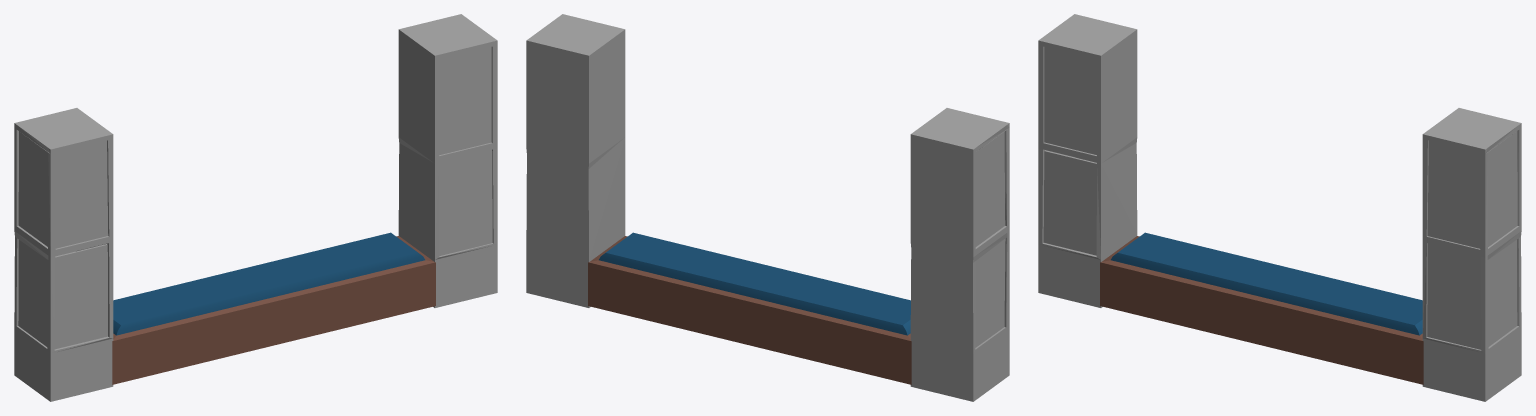
The model's file is hallwayTheaterEntrance.fbx.
The picture shows the model from 3 angles, left to right: view 1: azimuth 30°, elevation 25°; view 2: azimuth 150°, elevation 25°; view 3: azimuth 330°, elevation 25°; orthographic projection.
Parts seen in each view (by area): view 1: trophy_cases, middle_bench, glass_R1 (×2), glass_R2 (×2), glass_R3, glass_R4; view 2: trophy_cases, middle_bench, glass_R1, glass_R2; view 3: trophy_cases, middle_bench, glass_R3 (×2), glass_R4 (×2), glass_R1, glass_R2.
Boxes of the visible parts, x1=… form: trophy_cases: x1=14, y1=14, x2=497, y2=401; middle_bench: x1=112, y1=232, x2=435, y2=384; glass_R1 (×2): x1=18, y1=47, x2=491, y2=246; glass_R2 (×2): x1=18, y1=149, x2=492, y2=346; glass_R3: x1=55, y1=140, x2=108, y2=248; glass_R4: x1=54, y1=244, x2=107, y2=349; trophy_cases: x1=526, y1=14, x2=1009, y2=401; middle_bench: x1=588, y1=232, x2=911, y2=384; glass_R1: x1=975, y1=131, x2=1005, y2=246; glass_R2: x1=975, y1=238, x2=1005, y2=347; trophy_cases: x1=1038, y1=14, x2=1521, y2=401; middle_bench: x1=1100, y1=232, x2=1423, y2=384; glass_R3 (×2): x1=1044, y1=47, x2=1517, y2=246; glass_R4 (×2): x1=1043, y1=150, x2=1517, y2=346; glass_R1: x1=1427, y1=140, x2=1480, y2=248; glass_R2: x1=1427, y1=243, x2=1481, y2=349.
Bounding box in the file's own units: 212 × 114 × 30.14.
